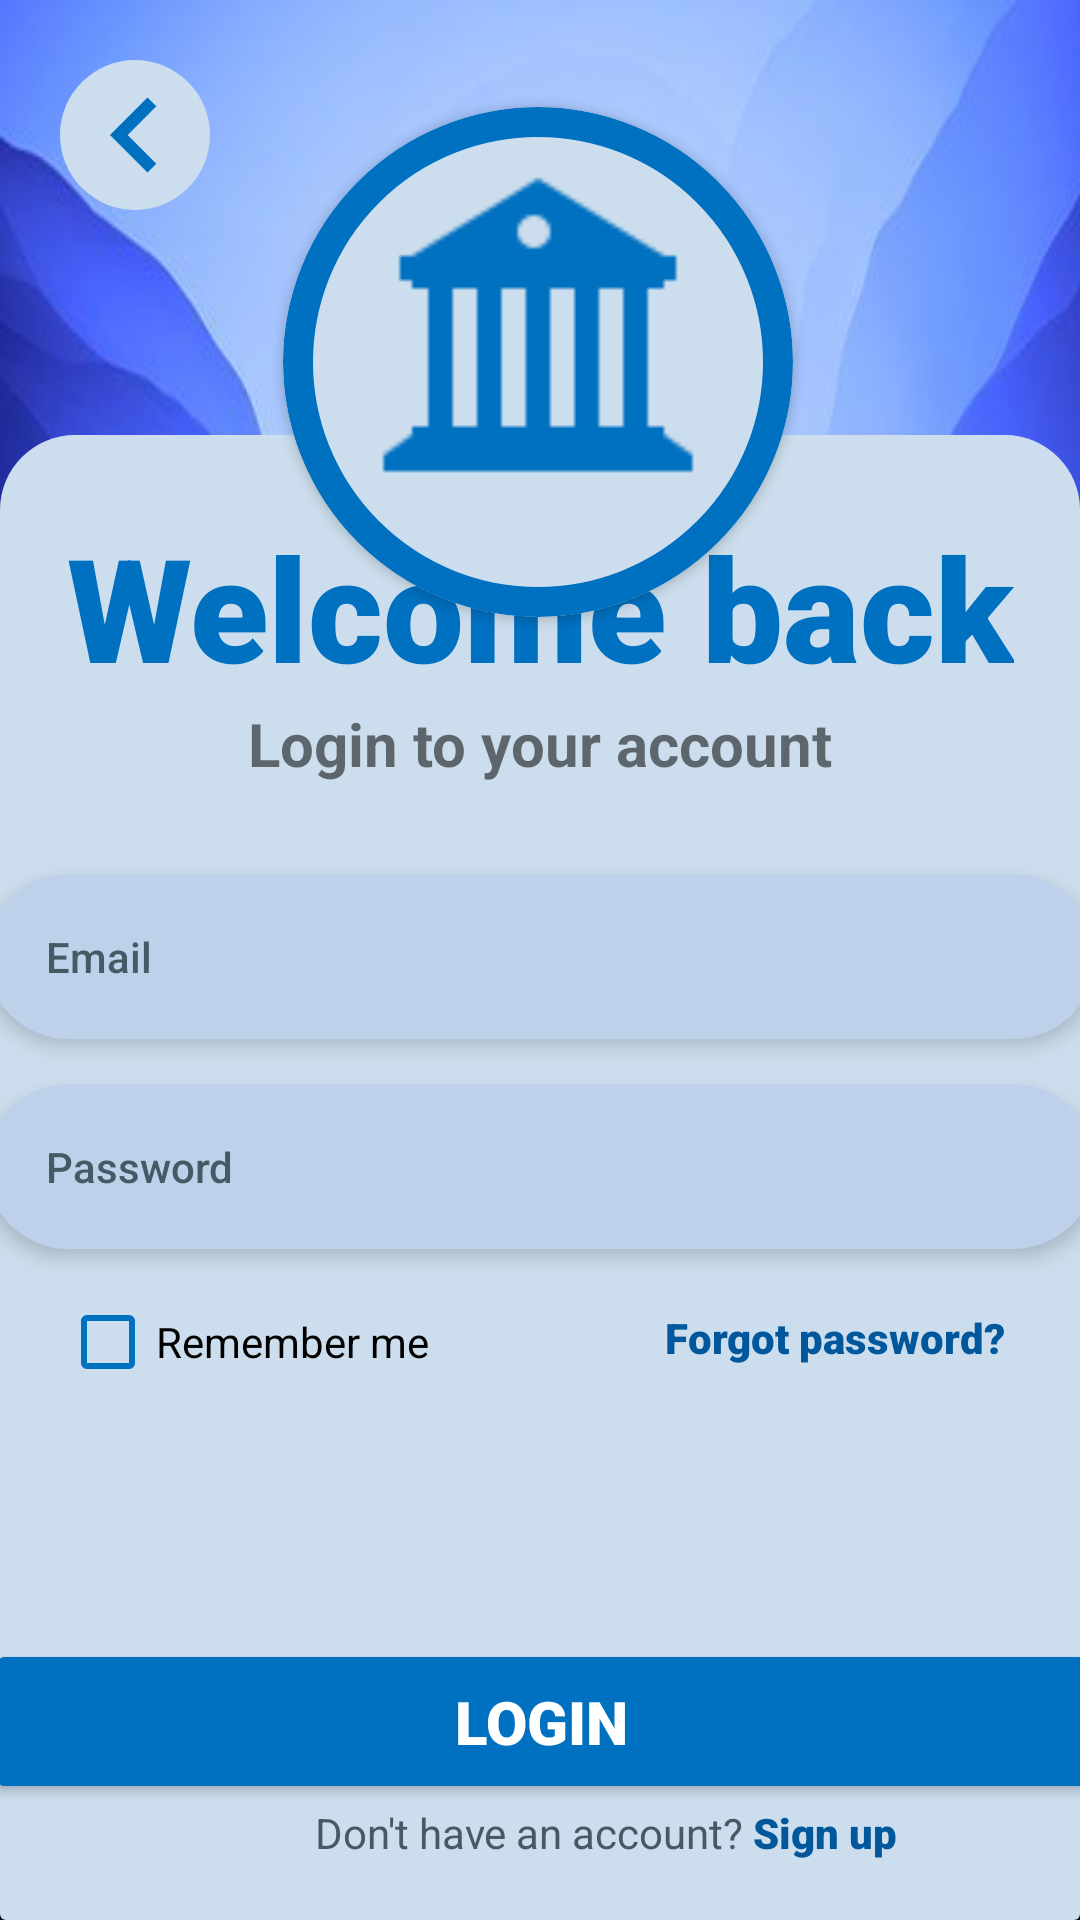

Named icons in this screenshot (1080px x 1920px) and their centers, (x=x, y=y):
keyboard arrow left: (x=135, y=135)
